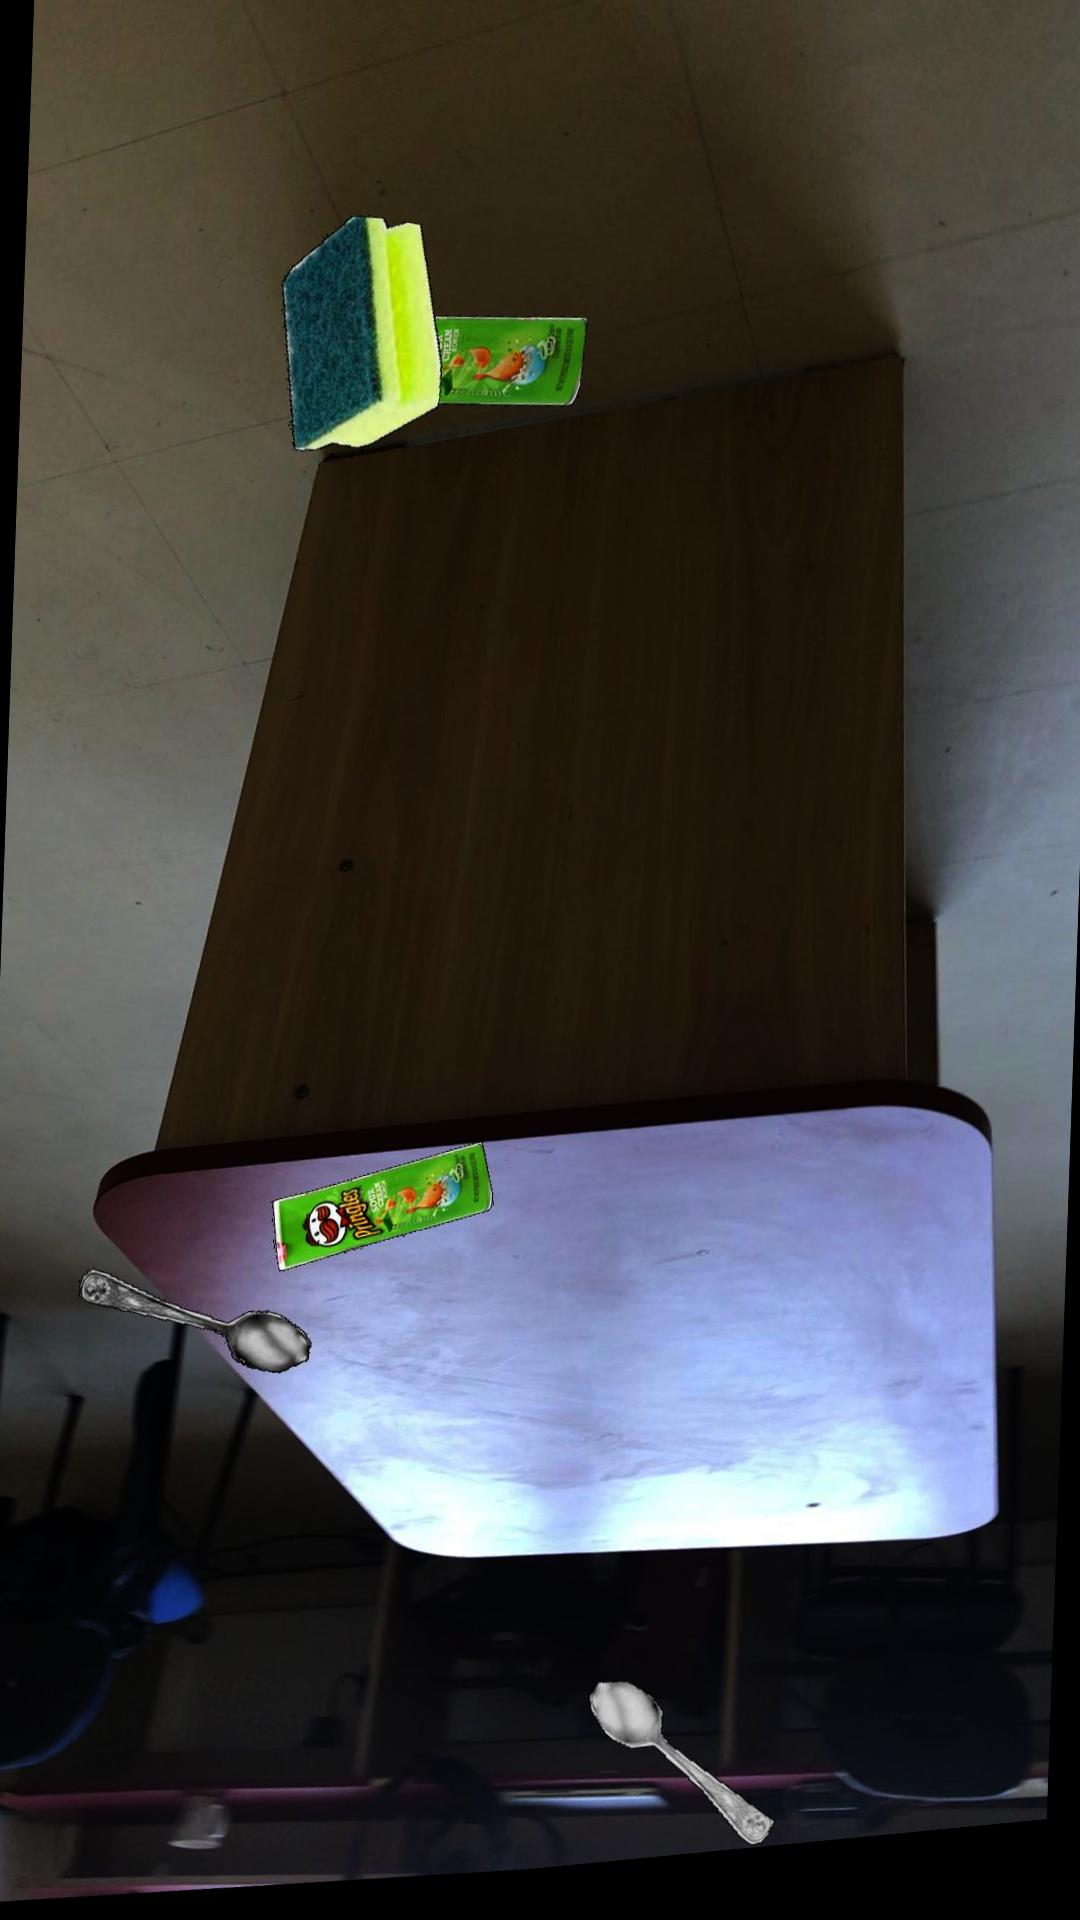pringles: (270, 1153, 491, 1278), (433, 326, 585, 418)
sponge: (280, 223, 439, 458)
spoon: (585, 1693, 773, 1862), (76, 1271, 309, 1379)
